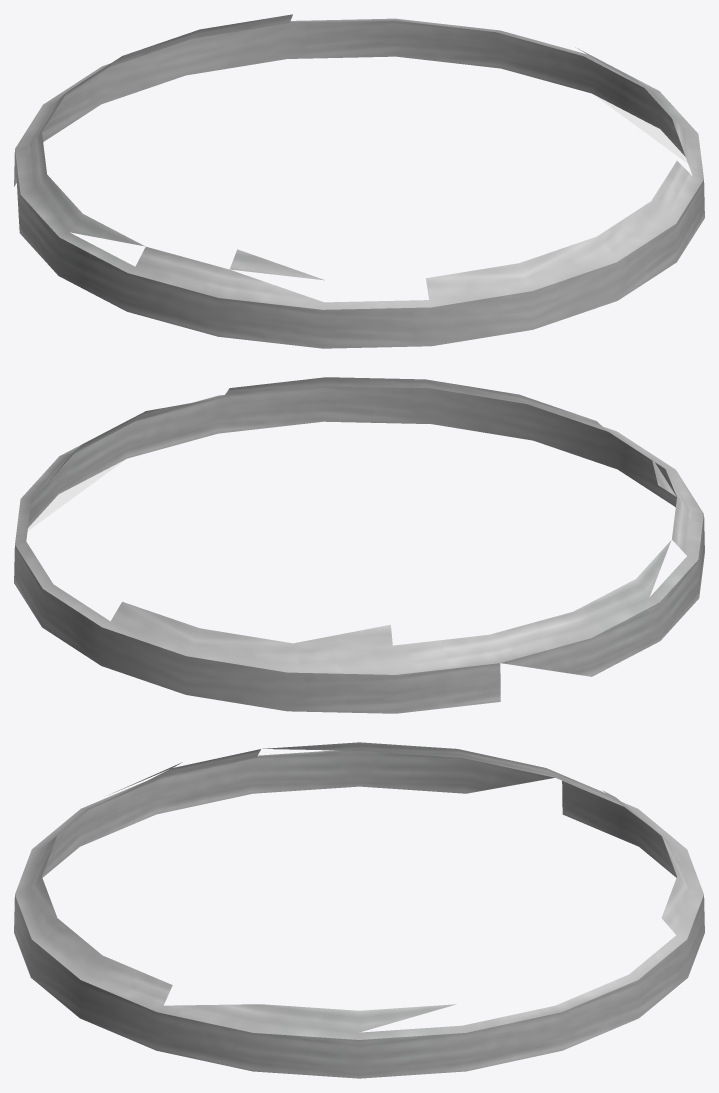
3 views of the same model, one above another, from view 1: azimuth 30°, elevation 25°; view 2: azimuth 150°, elevation 25°; view 3: azimuth 270°, elevation 25° (orthographic).
Bounding box in the file's own units: 0.2921 × 0.0322 × 0.2921.
